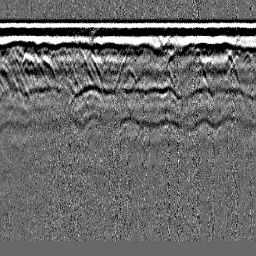cavity: (122, 60, 138, 88)
